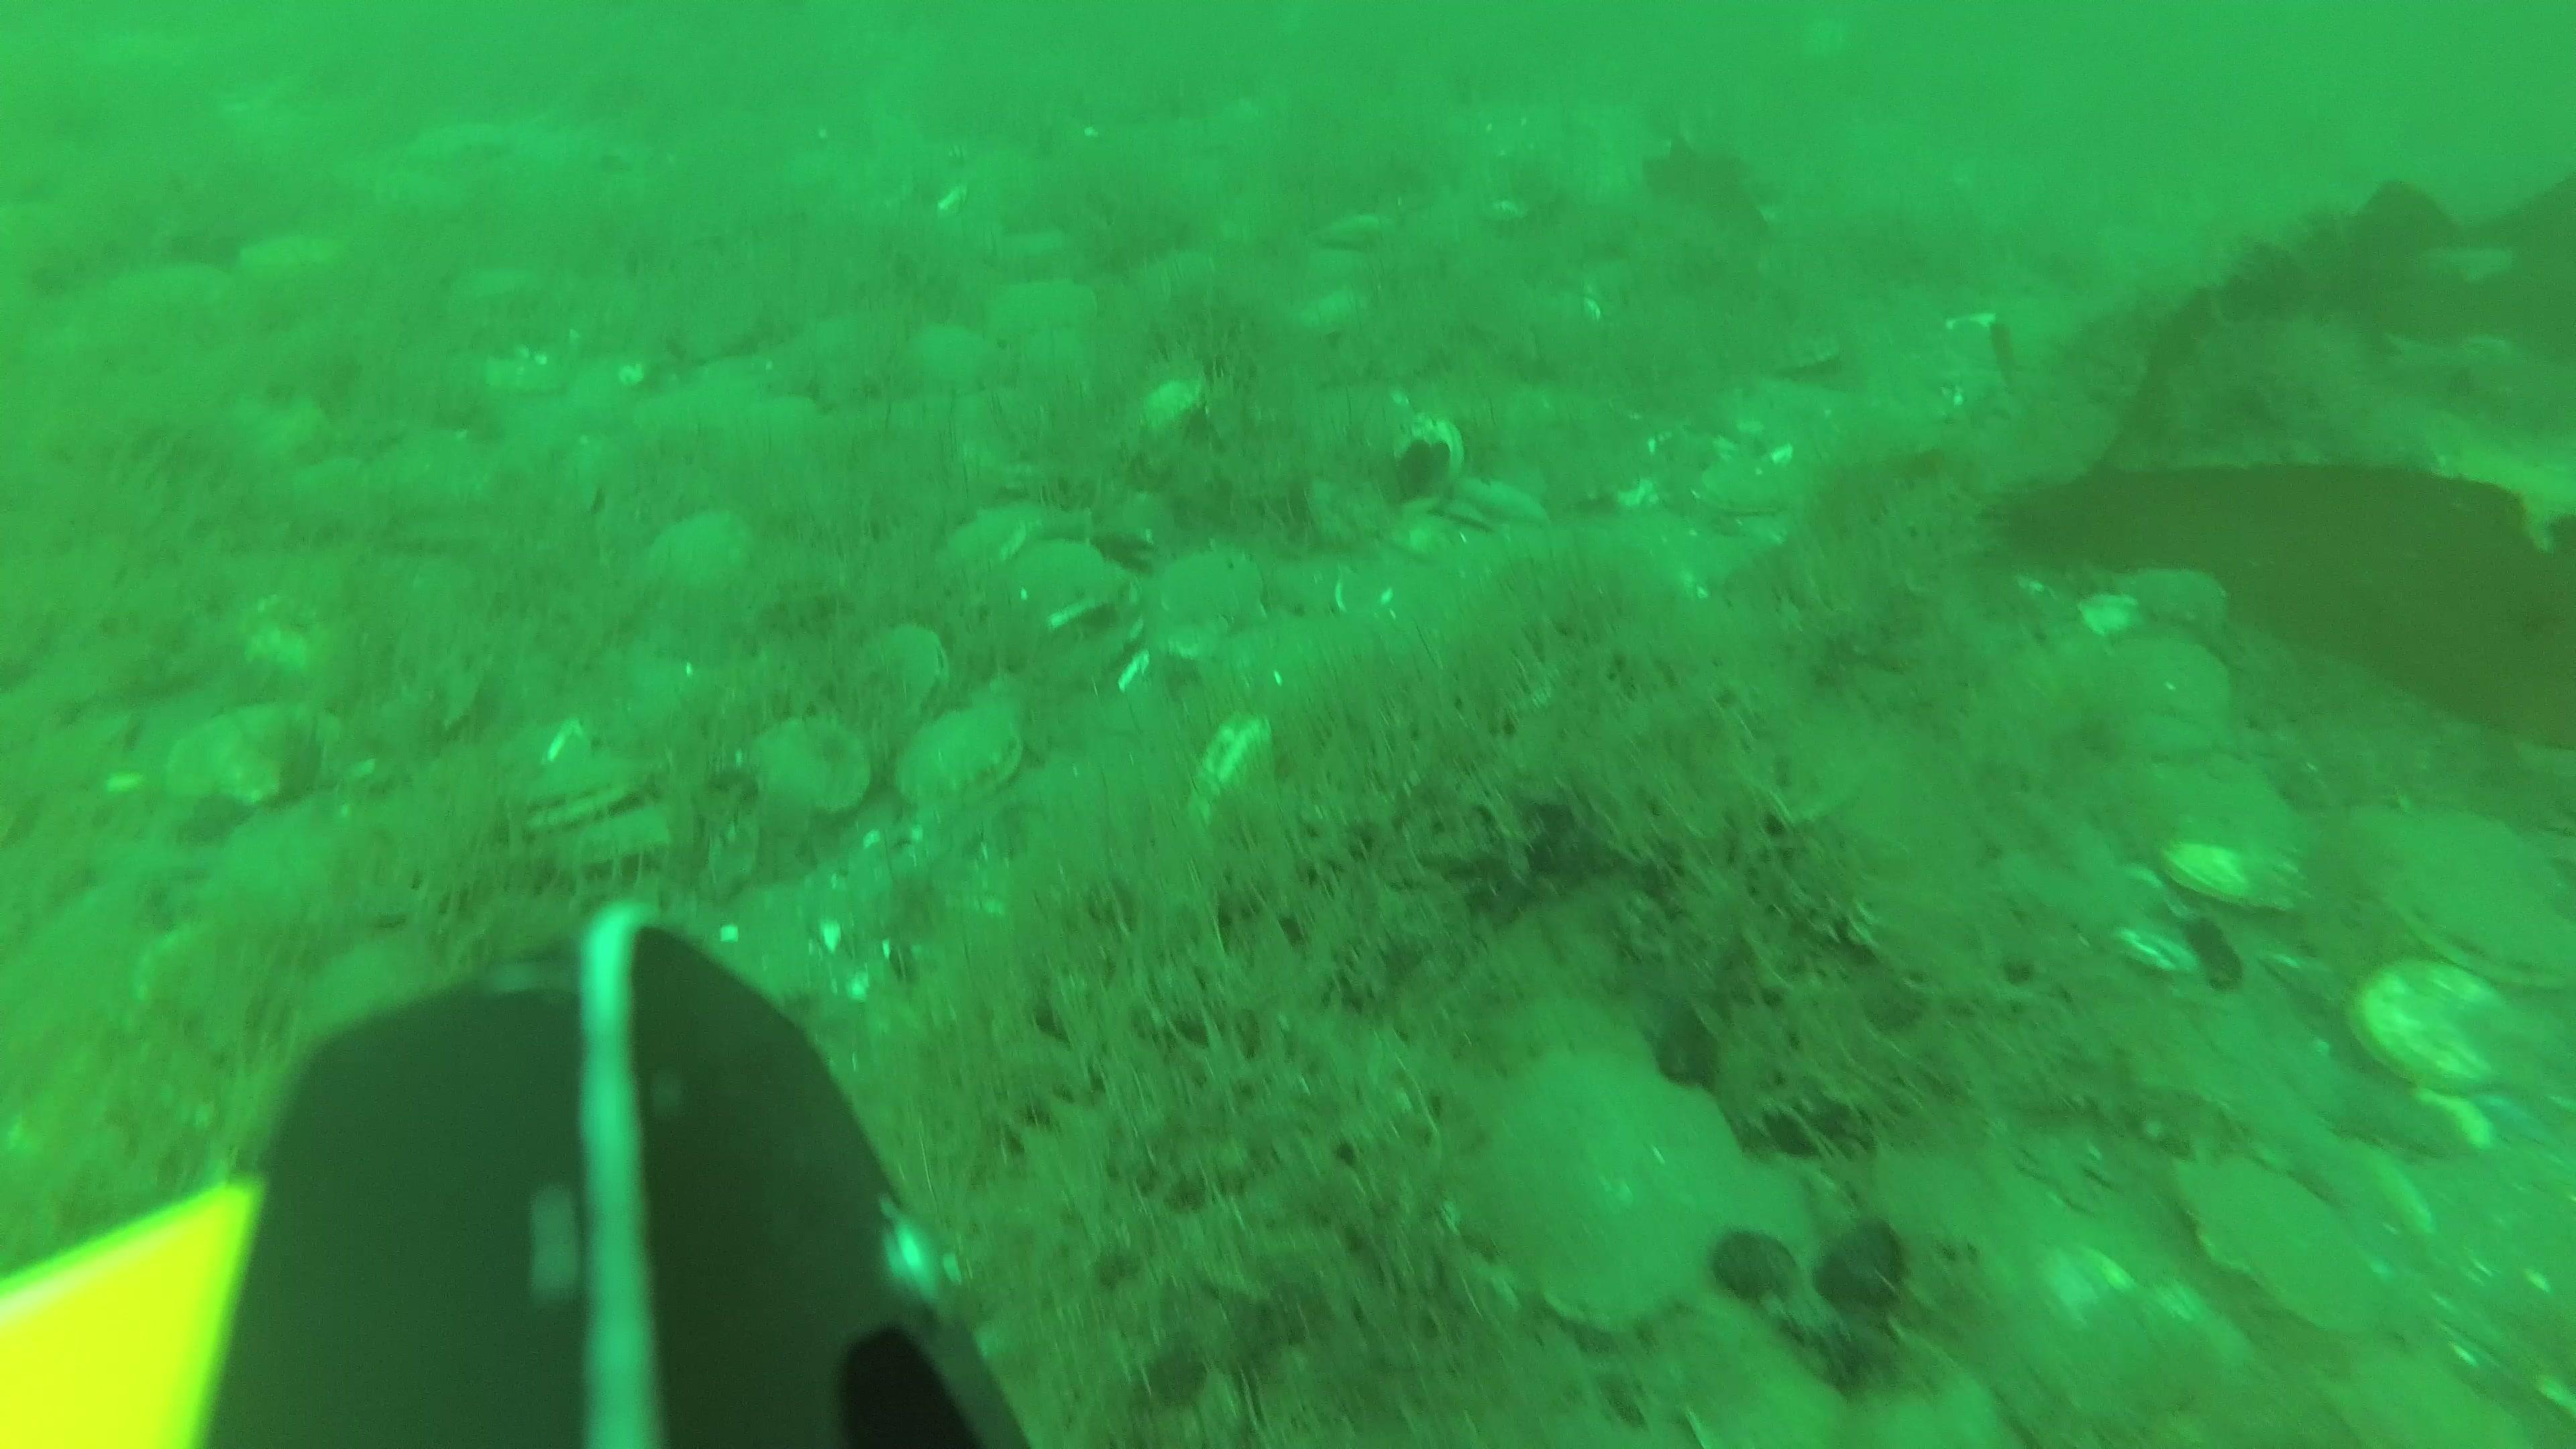scallop: (1472, 1014, 1732, 1311), (1690, 1313, 2010, 1449), (2367, 801, 2574, 998), (2176, 1150, 2376, 1330), (1663, 1150, 1833, 1341), (2355, 945, 2511, 1099), (165, 706, 333, 821), (2102, 632, 2238, 755), (2146, 763, 2293, 865), (830, 633, 954, 740), (1150, 550, 1272, 656), (755, 701, 865, 816), (2180, 819, 2316, 911), (899, 708, 1024, 798), (658, 510, 771, 607), (515, 738, 632, 826), (994, 547, 1100, 635), (938, 499, 1042, 580), (989, 283, 1104, 356), (556, 810, 665, 881), (899, 329, 1001, 398), (1693, 453, 1787, 517)
